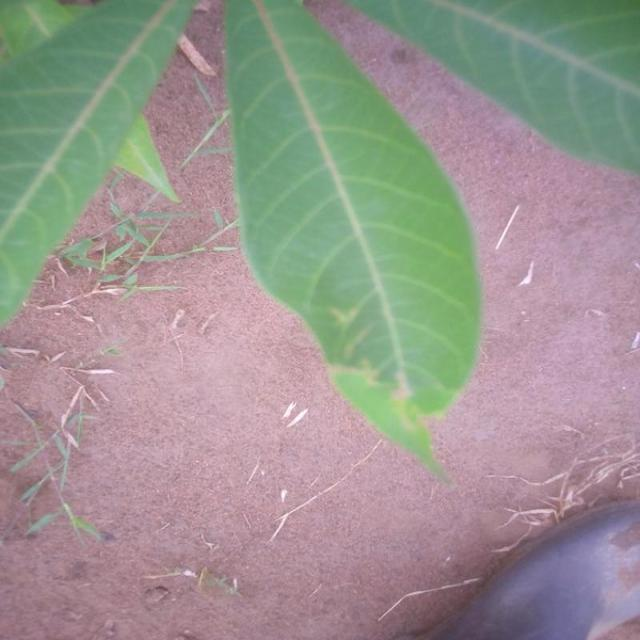cassava leaf: (223, 0, 484, 485), (1, 0, 198, 330), (341, 0, 640, 176)
